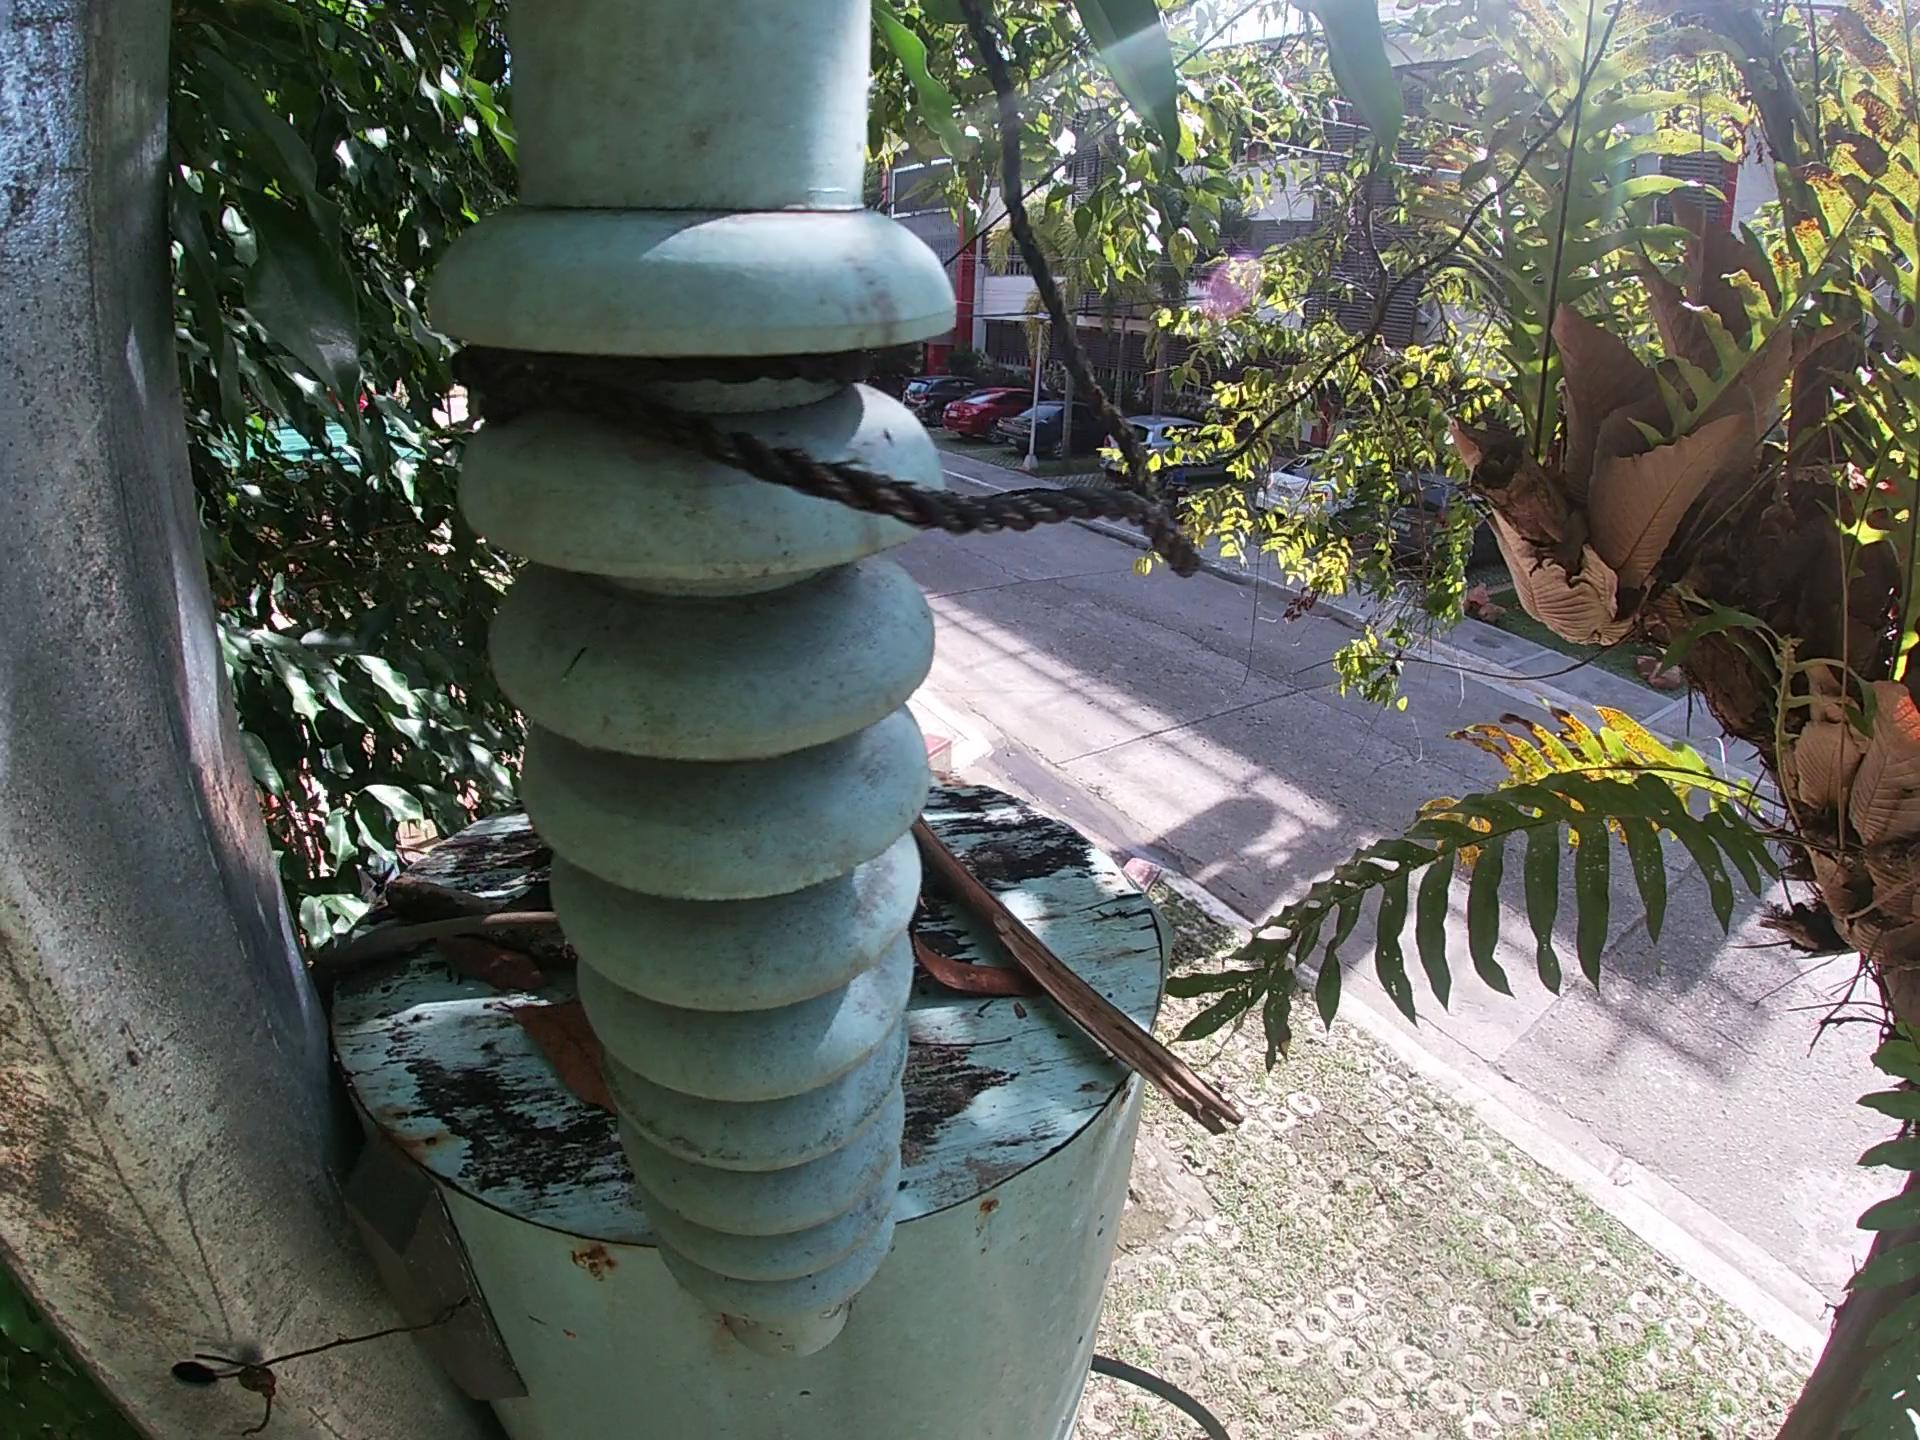leaf: (493, 992, 627, 1122), (420, 933, 556, 998)
mahogany fruit: (904, 892, 1049, 998)
tree branch: (913, 815, 1250, 1139), (384, 874, 585, 967), (305, 905, 565, 976)
